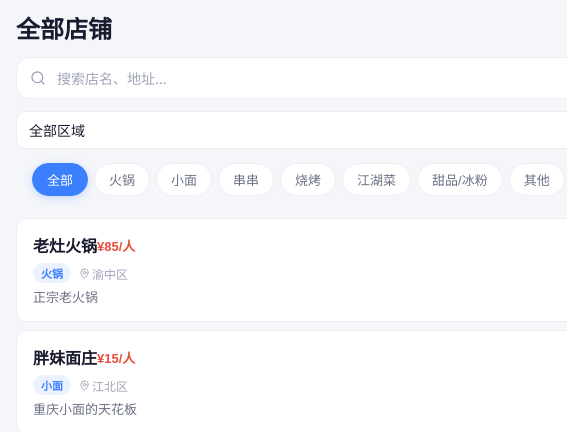
ListPage › filters by category when category clicked
Click the button "火锅": (122, 180) [94,163,150,196]
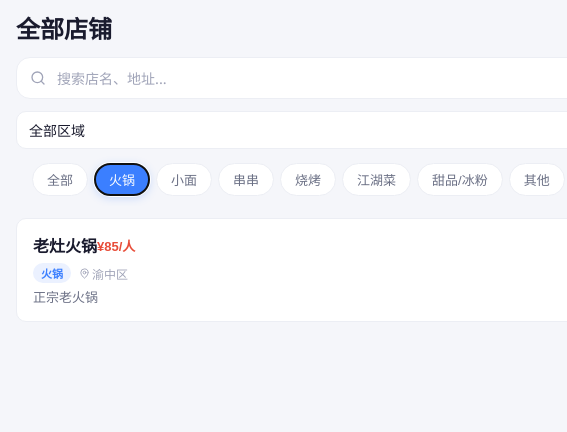
Expected: the text "老灶火锅" is shown, [33,233,97,257]
Expected: the button "胖妹面庄" is gone
